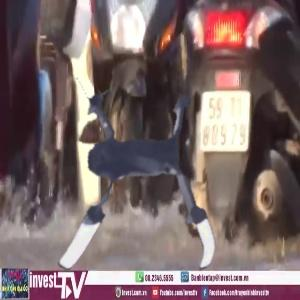drone: (11, 61, 251, 300)
